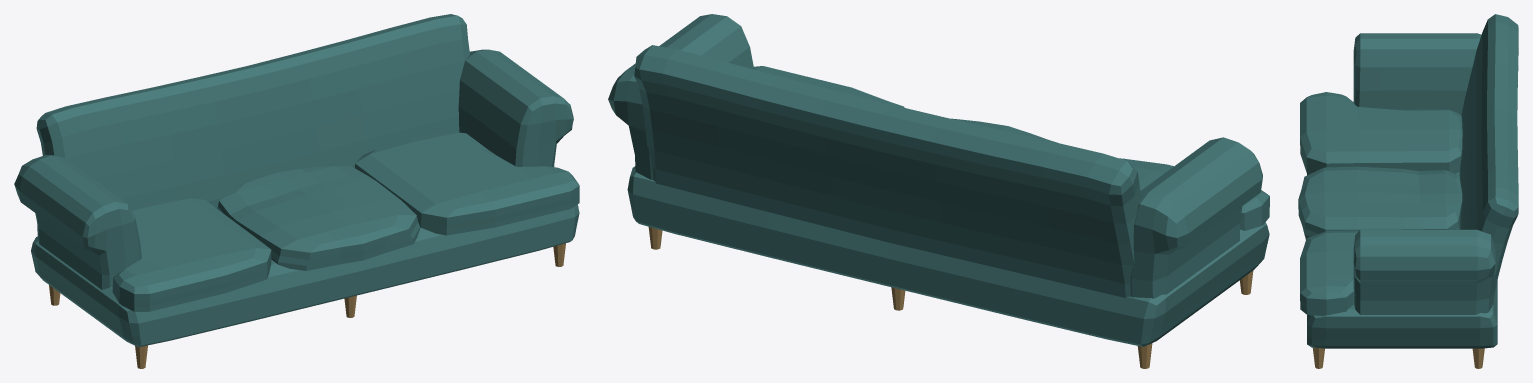
The model's file is sofa_velvet.glb.
3 views of the same model, side by side, from view 1: azimuth 30°, elevation 25°; view 2: azimuth 150°, elevation 25°; view 3: azimuth 270°, elevation 25° (orthographic). The views are drawn at different scales.
Parts seen in each view (by area): view 1: Sofa; view 2: Sofa; view 3: Sofa.
Boxes of the visible parts, <box> form: Sofa: <box>14,14,579,368</box>; Sofa: <box>608,14,1269,368</box>; Sofa: <box>1298,14,1518,368</box>.
Bounding box in the file's own units: 4.24 × 1.51 × 1.78.
